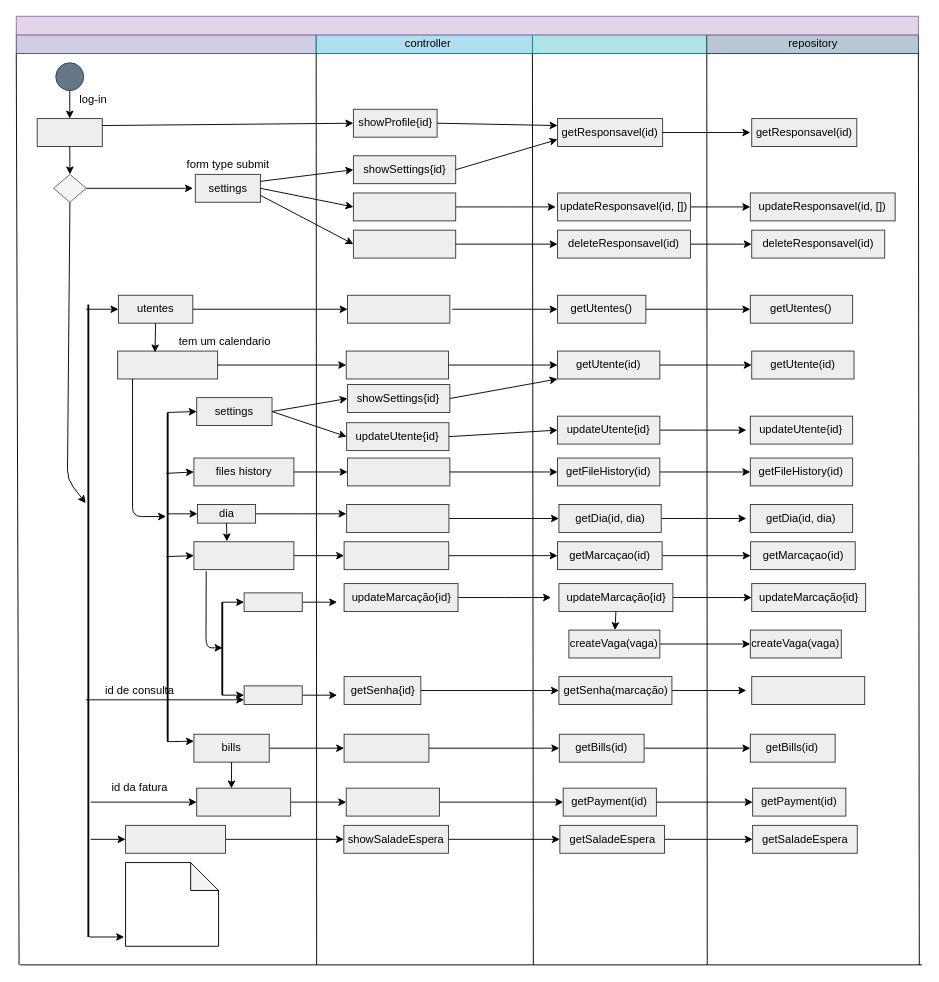
Image size: 939x982. Some labels were removed from this diagram. Here are the shapes that lost their labels. From the top down, the centre of each, then its label:
At pixel 165 43: "views".
At pixel 466 25: "Colaborador".
At pixel 619 43: "service".
At pixel 69 132: "profile".
At pixel 404 206: "updateProfile{id}".
At pixel 404 243: "deleteProfile{id}".
At pixel 398 308: "showUtentes".
At pixel 167 364: "utente profile".
At pixel 397 364: "showUtentes{id}".
At pixel 398 471: "showFileHistory{id}".
At pixel 397 518: "showDia{id, dia}".
At pixel 243 555: "marcação".
At pixel 396 555: "showMarcaçao{id}".
At pixel 272 601: "cancelar".
At pixel 272 694: "check-in".
At pixel 808 690: "createSenha(senha)".
At pixel 386 747: "showBills{id}".
At pixel 243 801: "make payment".
At pixel 392 801: "showPayment{id}".
At pixel 175 838: "Sala de espera".
At pixel 172 904: "Calendario geral como o do utente".
